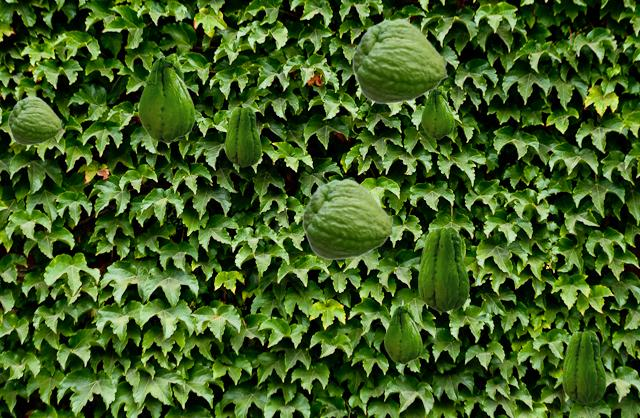sayote: (352, 18, 448, 103), (302, 178, 394, 259), (138, 53, 194, 142), (418, 226, 468, 311), (562, 330, 605, 403), (8, 96, 62, 144), (384, 303, 421, 363), (225, 106, 260, 166), (421, 86, 453, 138)
